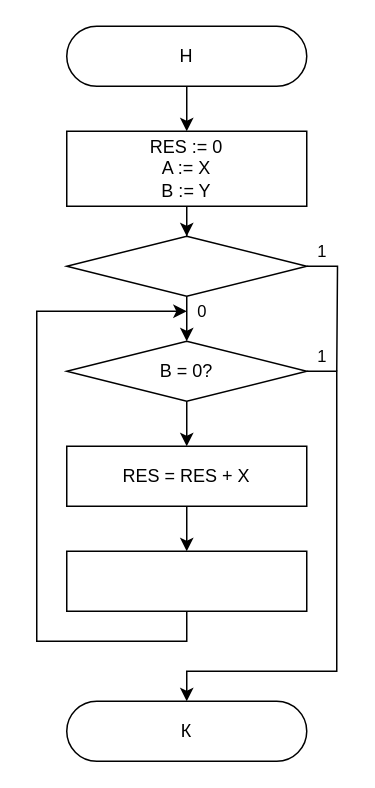
Some shapes in this 375 by 788 pixel diagram are drawn without their labels. The box of each missing label's shape, as (x1, y1, x2, y2) in pixels:
A = 0?: (65, 235, 307, 296)
Y = Y -1: (65, 550, 307, 611)
